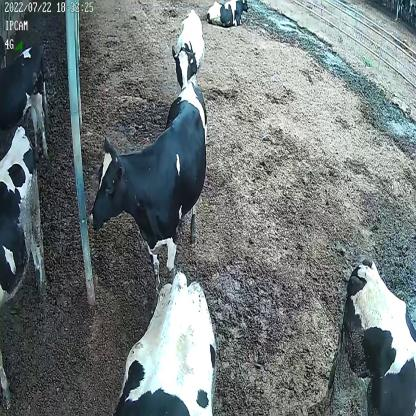cow: (89, 82, 207, 294), (172, 8, 207, 92), (204, 0, 249, 29)
